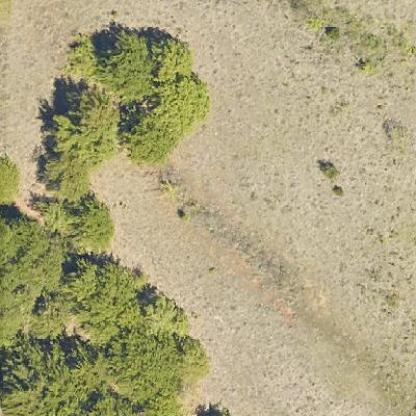tree-top: (1, 339, 101, 415), (150, 31, 211, 134), (40, 86, 116, 164), (72, 256, 142, 328), (93, 25, 156, 98), (106, 328, 168, 397), (119, 114, 184, 168), (33, 155, 97, 201), (144, 288, 191, 340), (70, 198, 118, 248), (165, 332, 210, 380), (34, 201, 72, 231), (0, 151, 18, 208)
